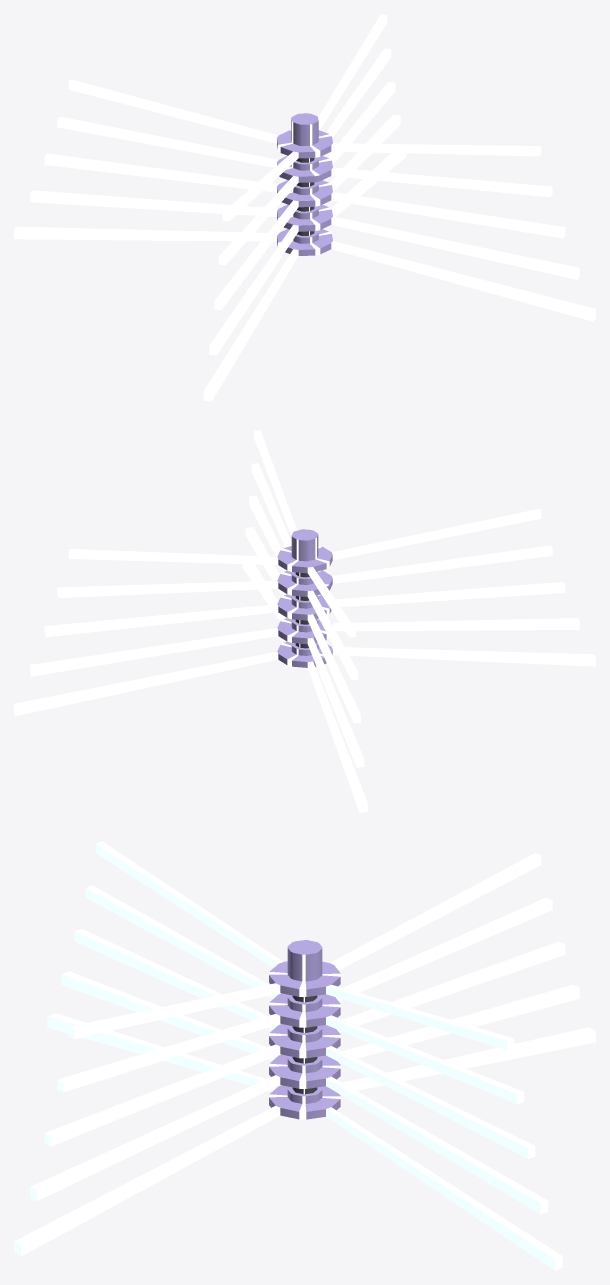
The model's file is lasre.fbx.
3 renders of one model, top to bottom at view 1: azimuth 30°, elevation 25°; view 2: azimuth 150°, elevation 25°; view 3: azimuth 270°, elevation 25°, orthographic. The views are drawn at different scales.
Parts seen in each view (by area): view 1: Circle.011; view 2: Circle.011; view 3: Circle.011.
Part boxes in pixels (x1=…): Circle.011: x1=14, y1=14, x2=595, y2=401; Circle.011: x1=14, y1=430, x2=595, y2=812; Circle.011: x1=14, y1=841, x2=595, y2=1270.
Size of the model in its own units: 1116 by 437 by 1116.
